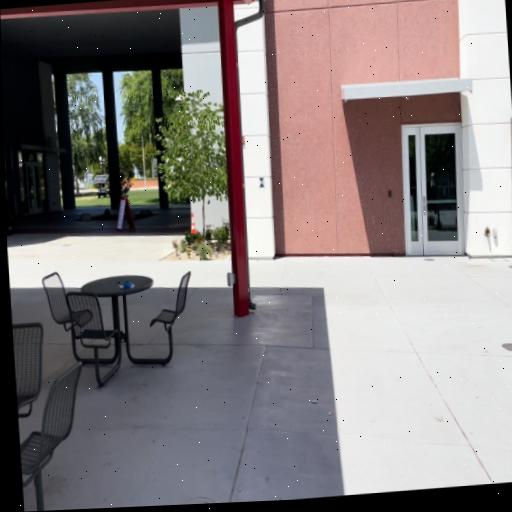target9: (259, 176, 265, 188)
